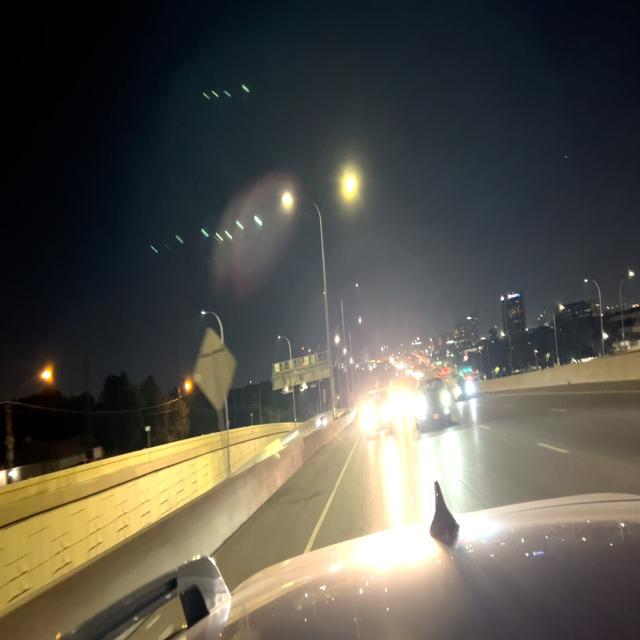back-of-sign: (191, 327, 237, 411), (272, 352, 331, 391)
